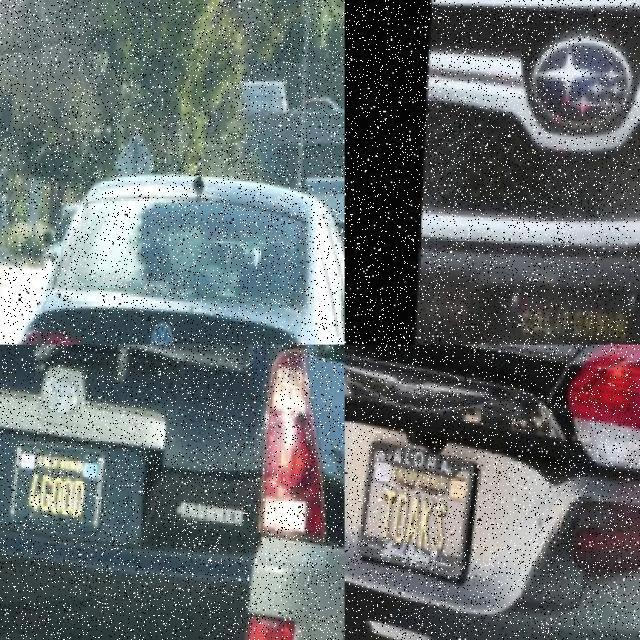LicensePlate: (345, 429, 478, 580), (443, 274, 640, 345), (0, 437, 103, 546)
